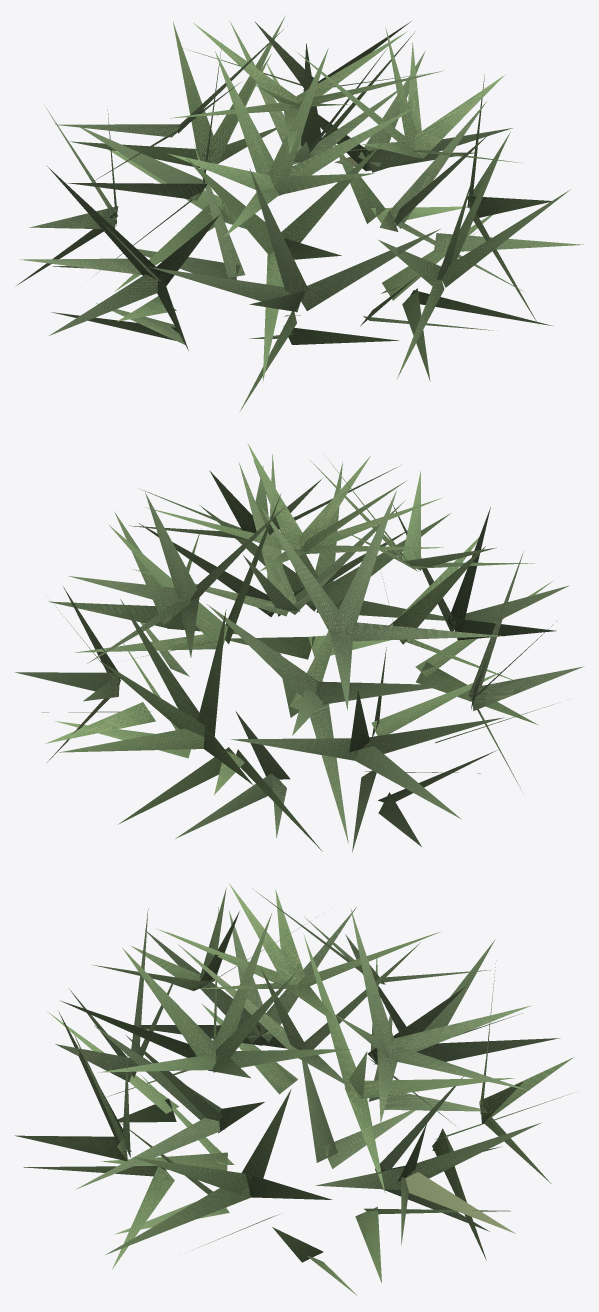
The model's file is shrub.lod.glb.
3 views of the same model, one above another, from view 1: azimuth 30°, elevation 25°; view 2: azimuth 150°, elevation 25°; view 3: azimuth 270°, elevation 25° (orthographic). The views are drawn at different scales.
Visible parts, largest first — view 1: shrub; view 2: shrub; view 3: shrub.
Boxes of the visible parts, <box> form: shrub: <box>16,15,583,410</box>; shrub: <box>15,443,584,852</box>; shrub: <box>14,883,573,1295</box>.
Bounding box in the file's own units: 2.08 × 1.29 × 2.14.
